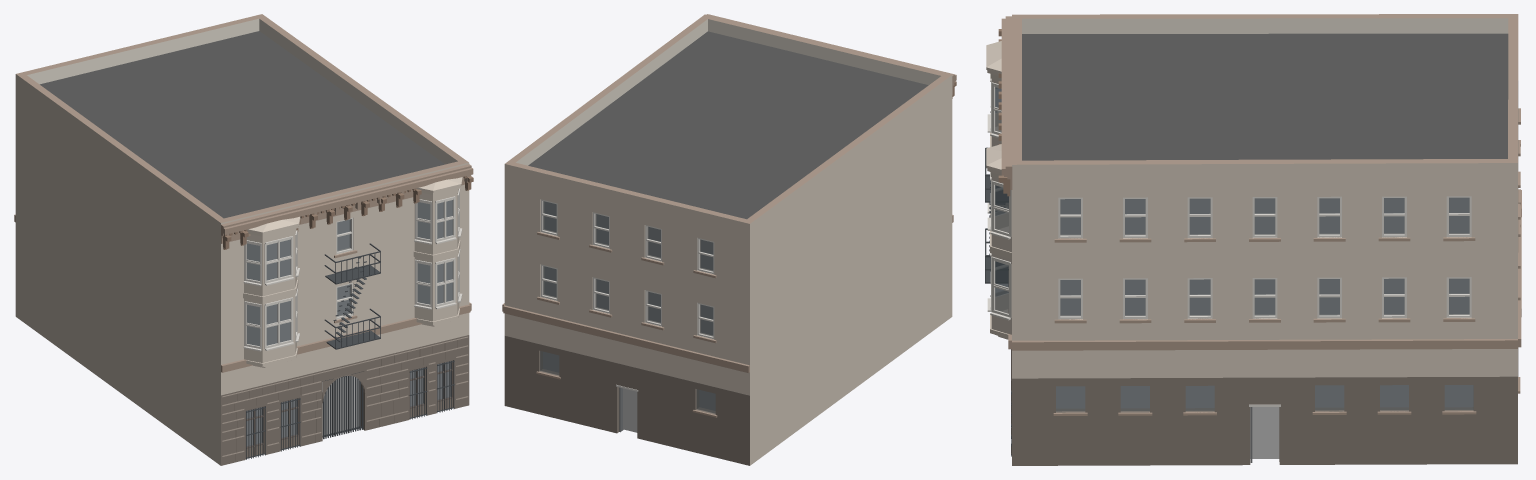
The model's file is exterior.glb.
The picture shows the model from 3 angles, left to right: view 1: azimuth 30°, elevation 25°; view 2: azimuth 150°, elevation 25°; view 3: azimuth 270°, elevation 25°; orthographic projection. The views are drawn at different scales.
Parts seen in each view (by area): view 1: shell, roof, bay-glazing-hyb, shadow-proxy, bay-windows-hyb, storefront, trim, glazing, hyD-rubble-1, fire-escape, front-dressing-r4, frames; view 2: shell, roof, glazing, shadow-proxy, trim, frames; view 3: shell, roof, glazing, shadow-proxy, trim, frames, bay-glazing-hyb, bay-windows-hyb, fire-escape.
Boxes of the visible parts, x1,y1,x2,y2 form: shell: [15, 14, 469, 465]; roof: [40, 31, 444, 218]; bay-glazing-hyb: [243, 188, 462, 351]; shadow-proxy: [247, 200, 452, 445]; bay-windows-hyb: [243, 177, 462, 367]; storefront: [245, 360, 454, 459]; trim: [14, 164, 473, 372]; glazing: [246, 219, 451, 446]; hyD-rubble-1: [222, 336, 468, 461]; fire-escape: [324, 243, 380, 349]; front-dressing-r4: [222, 175, 473, 249]; frames: [336, 217, 353, 319]; shell: [504, 14, 952, 465]; roof: [528, 31, 928, 219]; glazing: [540, 201, 715, 413]; shadow-proxy: [543, 201, 715, 432]; trim: [502, 14, 956, 417]; frames: [541, 199, 714, 339]; shell: [1012, 14, 1518, 465]; roof: [1022, 33, 1508, 160]; glazing: [1056, 197, 1473, 411]; shadow-proxy: [1056, 198, 1473, 458]; trim: [1001, 16, 1521, 415]; frames: [1058, 196, 1471, 319]; bay-glazing-hyb: [987, 73, 1011, 320]; bay-windows-hyb: [986, 41, 1011, 339]; fire-escape: [985, 147, 1008, 283].
Bounding box in the file's own units: 12.33 × 11.37 × 18.37.
